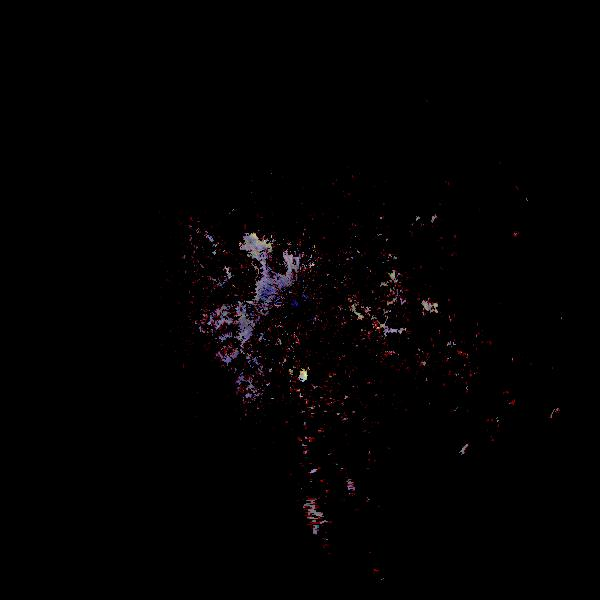roost: (549, 407, 573, 431), (459, 443, 480, 464), (293, 368, 308, 383)
